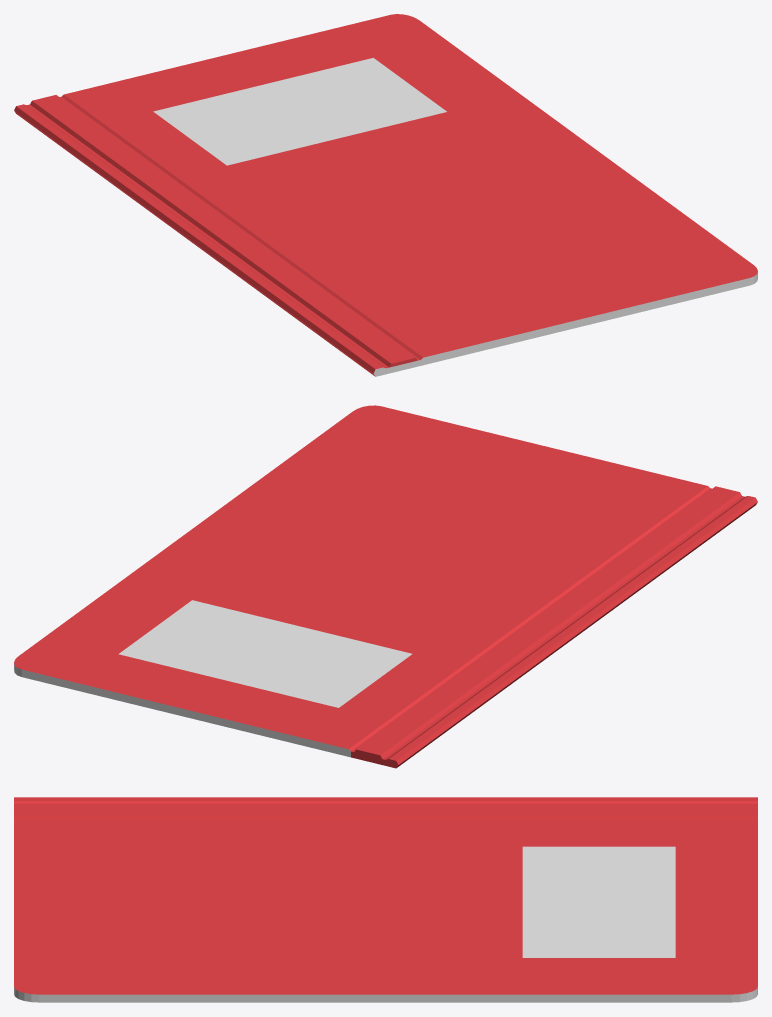
Rendered from Heft.glb.
The picture shows the model from 3 angles, top to bottom: view 1: azimuth 30°, elevation 25°; view 2: azimuth 150°, elevation 25°; view 3: azimuth 270°, elevation 25°; orthographic projection. The views are drawn at different scales.
Visible parts, largest first — view 1: Cube; view 2: Cube; view 3: Cube.
Part boxes in pixels (x1=…): Cube: x1=14, y1=14, x2=757, y2=376; Cube: x1=14, y1=405, x2=757, y2=768; Cube: x1=14, y1=797, x2=757, y2=1002.
Size of the model in its own units: 2.01 by 0.0454 by 3.19.
